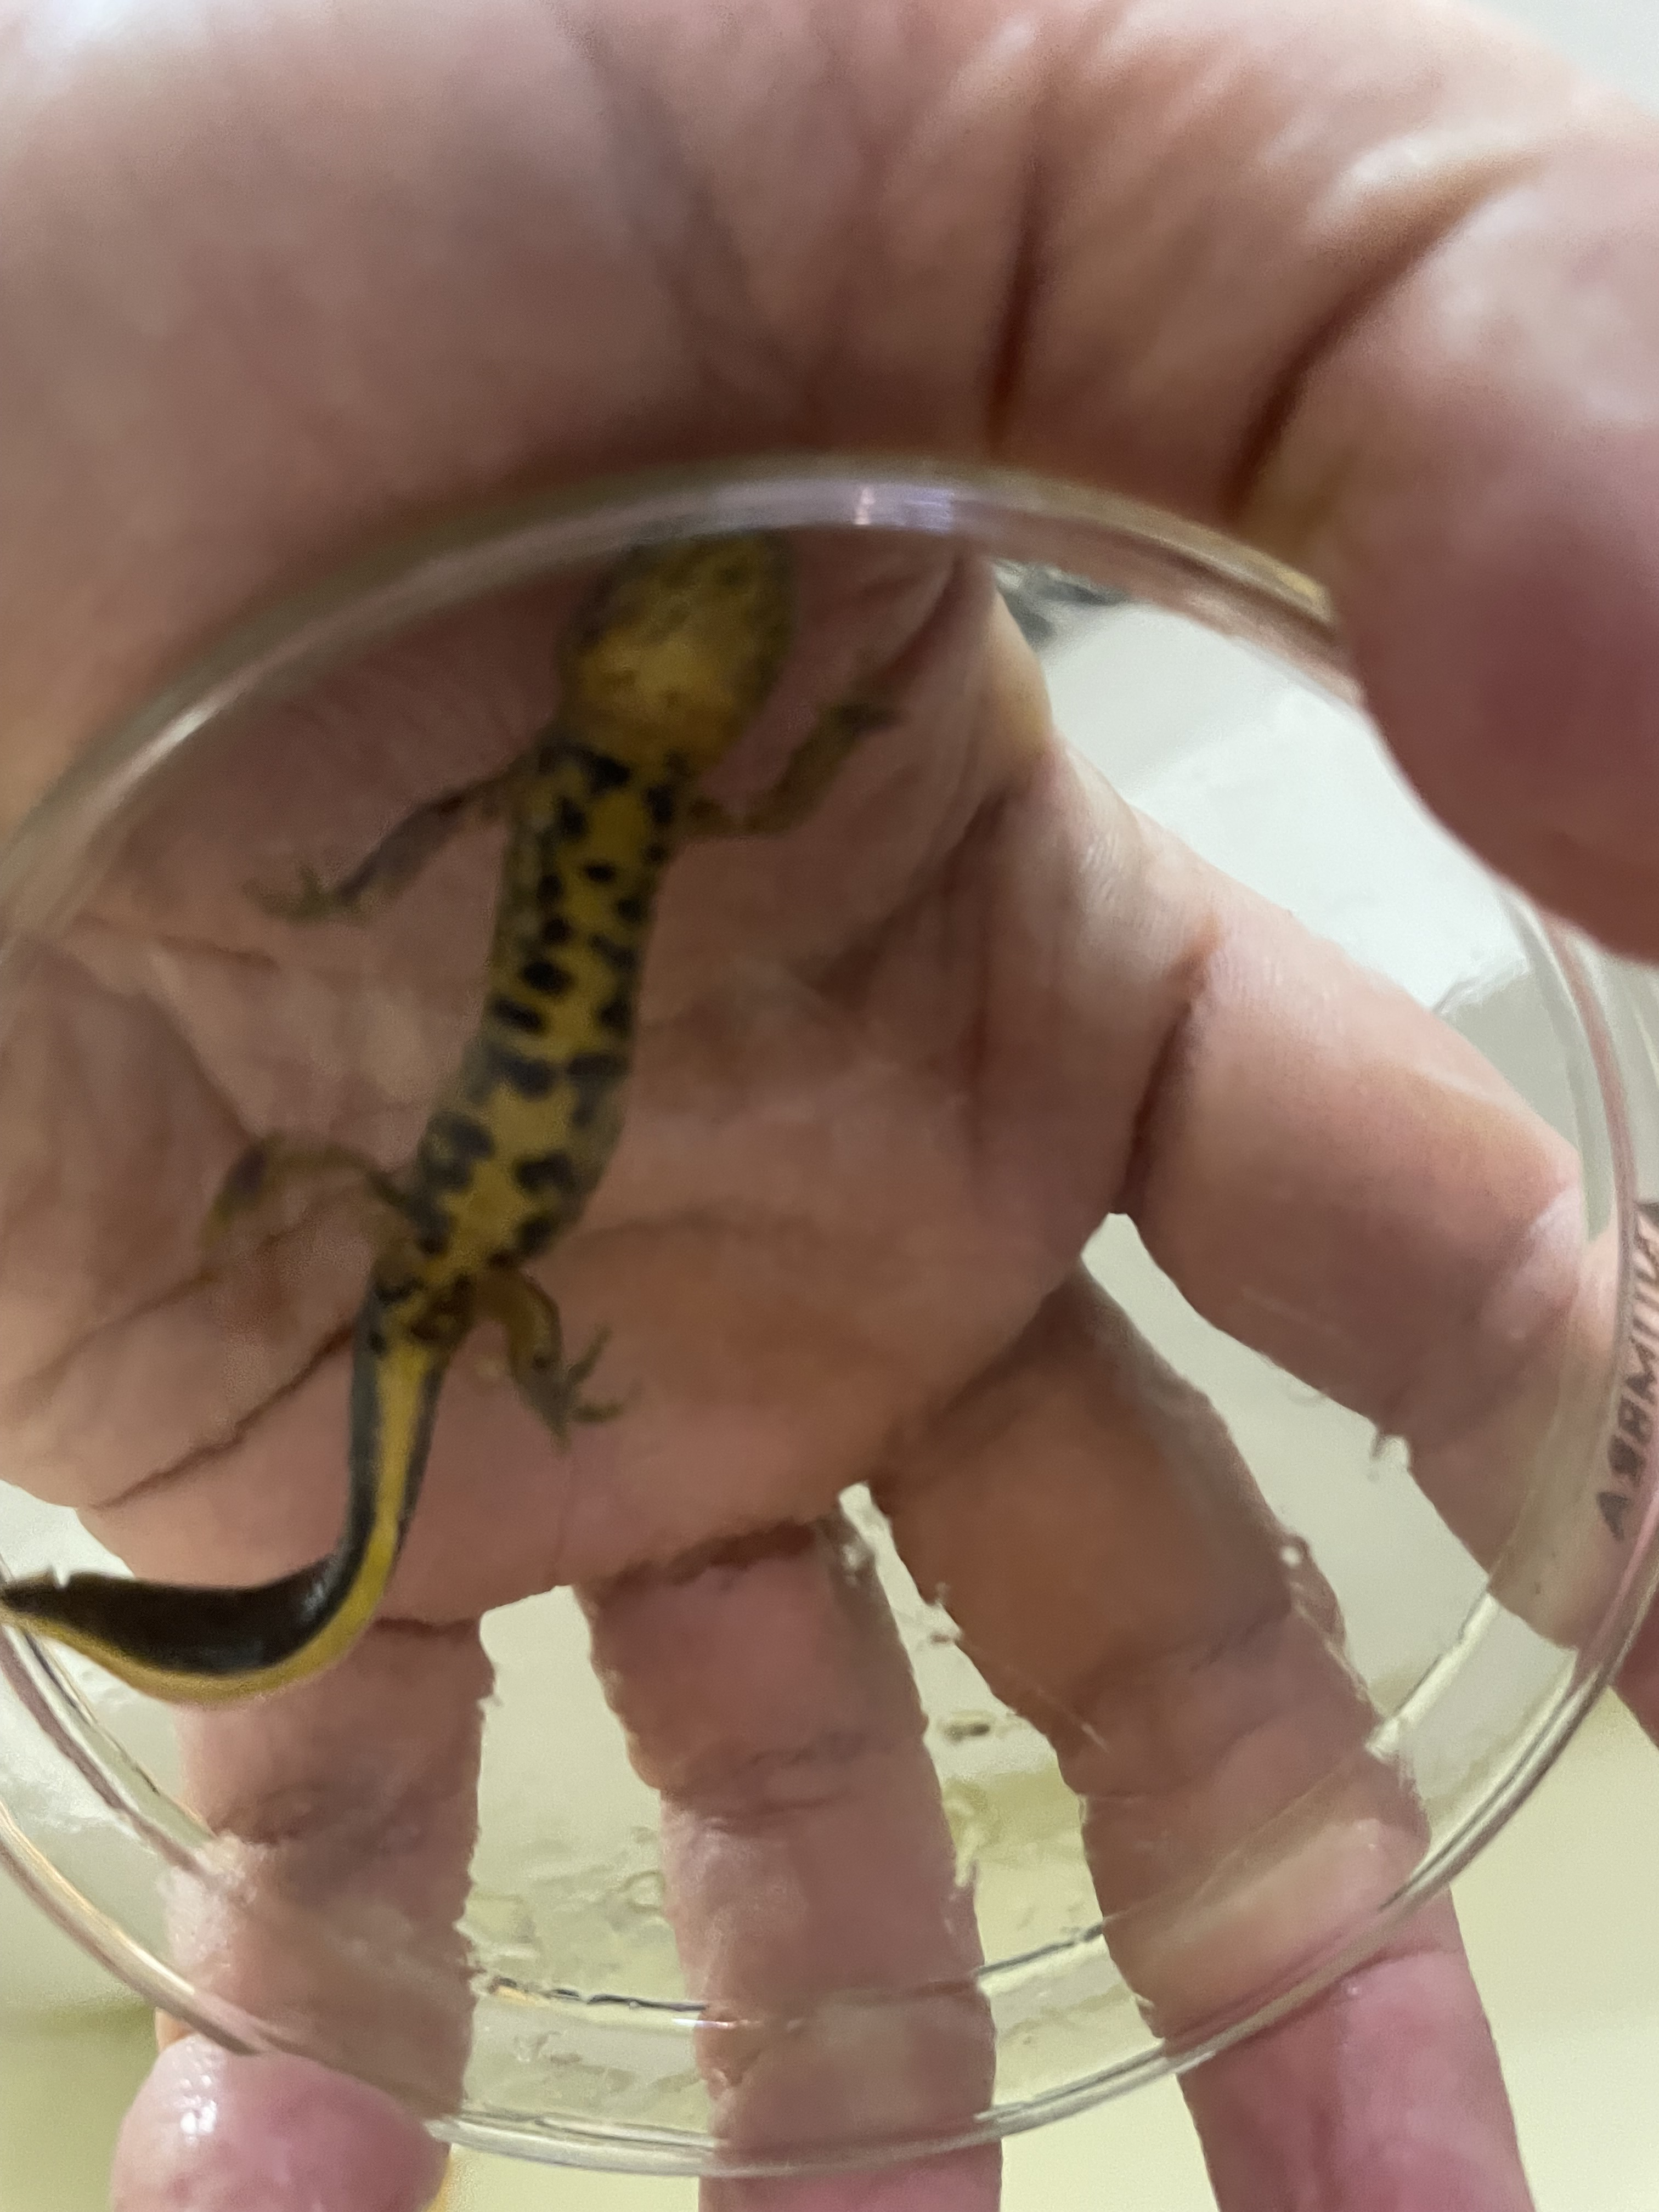Karelin_newt: (397, 813, 687, 1264)
